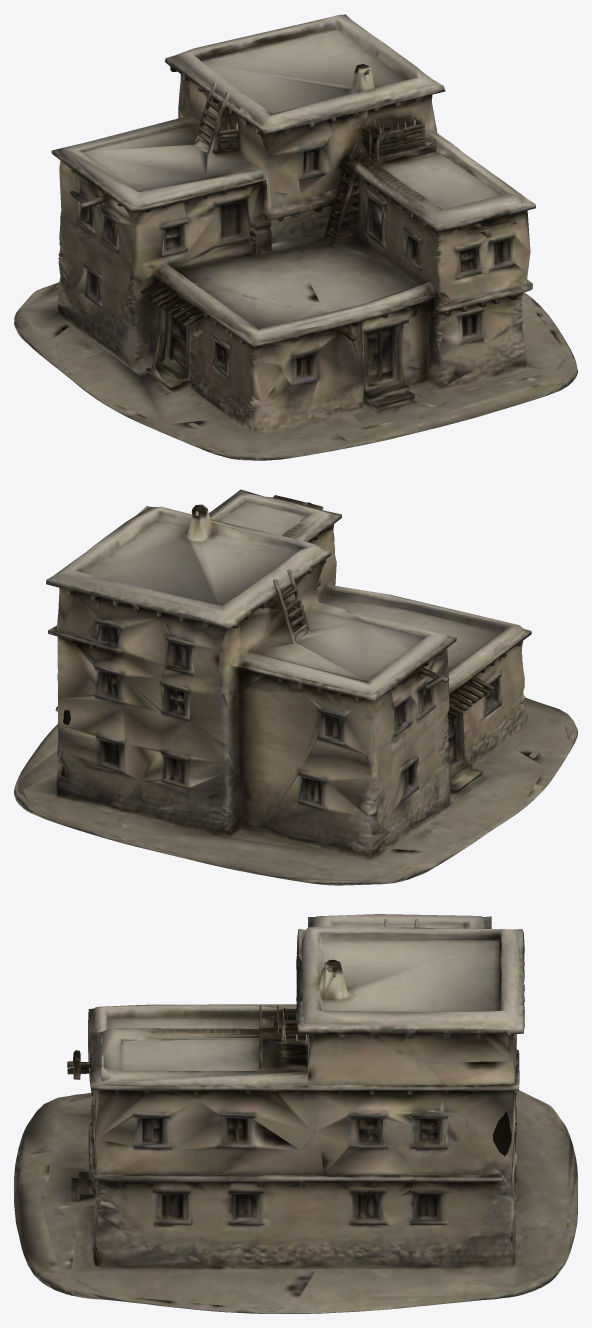
The model's file is house_12.glb.
The picture shows the model from 3 angles, top to bottom: view 1: azimuth 30°, elevation 25°; view 2: azimuth 150°, elevation 25°; view 3: azimuth 270°, elevation 25°; orthographic projection. The views are drawn at different scales.
Visible parts, largest first — view 1: node_0; view 2: node_0; view 3: node_0.
Part boxes in pixels (left/top/right/bottom): node_0: left=14, top=14, right=577, bottom=460; node_0: left=14, top=489, right=577, bottom=885; node_0: left=14, top=914, right=577, bottom=1313.
Size of the model in its own units: 0.9241 by 0.5026 by 0.9252.
Materials: 1 (1 with a texture image).
